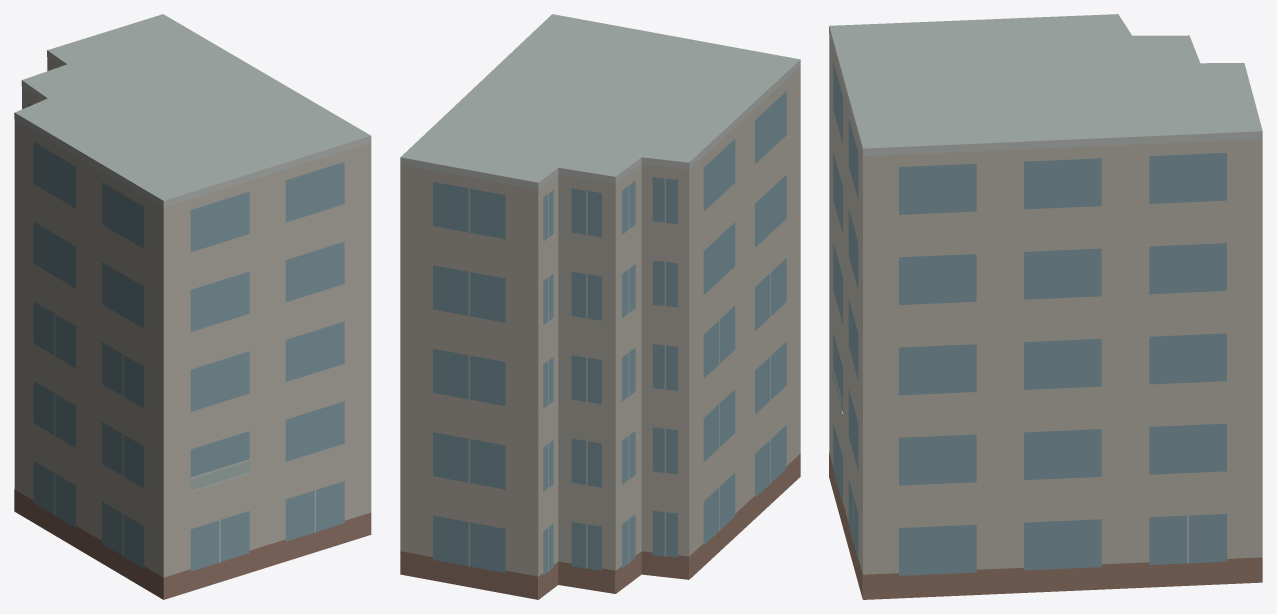
File: survey-upis-32736472.glb
The picture shows the model from 3 angles, left to right: view 1: azimuth 30°, elevation 25°; view 2: azimuth 150°, elevation 25°; view 3: azimuth 270°, elevation 25°; orthographic projection. The views are drawn at different scales.
Parts seen in each view (by area): view 1: survey-upis-32736472.tmp; view 2: survey-upis-32736472.tmp; view 3: survey-upis-32736472.tmp.
Boxes of the visible parts, x1,y1,x2,y2 form: survey-upis-32736472.tmp: [14, 14, 371, 599]; survey-upis-32736472.tmp: [400, 14, 800, 599]; survey-upis-32736472.tmp: [829, 14, 1262, 599].
Bounding box in the file's own units: 9.22 × 14.4 × 12.55.
